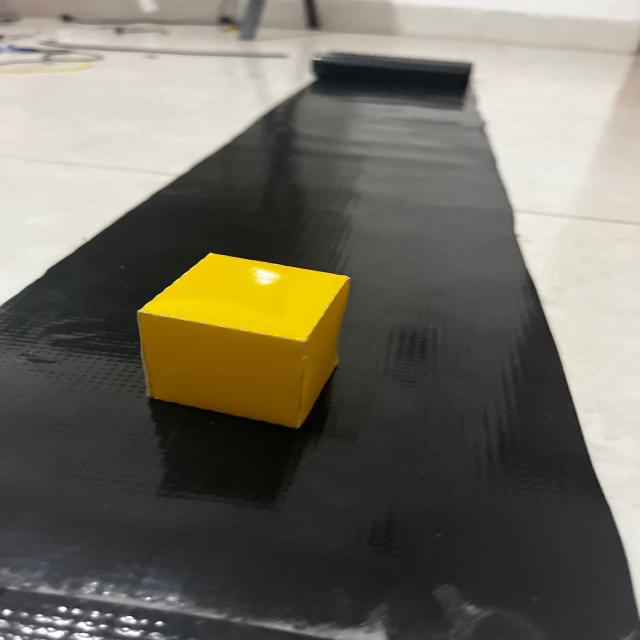Amarillo: (110, 231, 390, 461)
